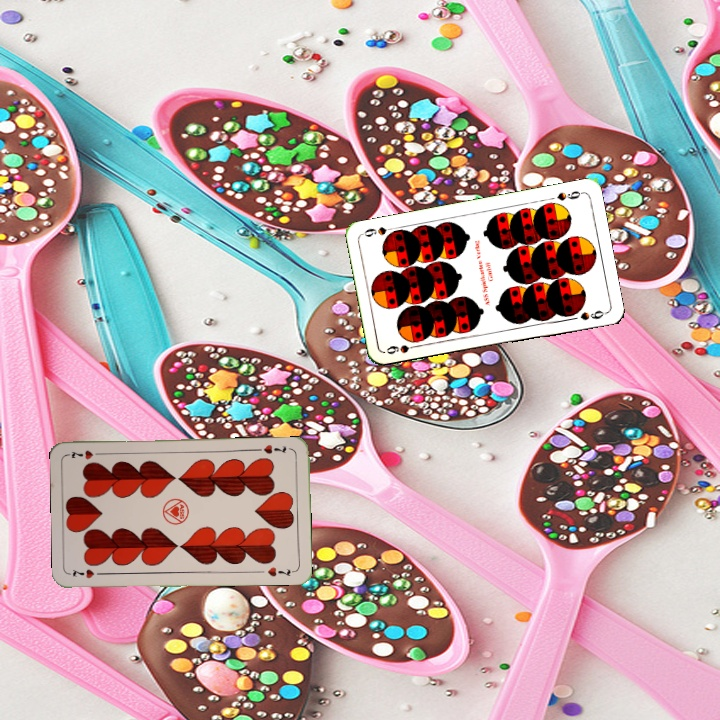H7: (68, 565, 107, 581), (259, 441, 289, 457)
S9: (382, 340, 423, 357), (553, 187, 586, 203)
